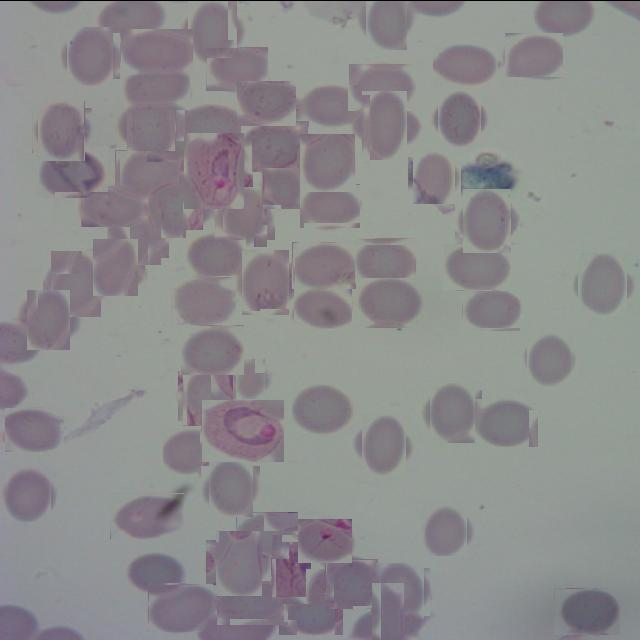leukocyte: (38, 145, 108, 197), (242, 120, 310, 171), (356, 277, 425, 327), (212, 579, 288, 624), (110, 492, 184, 538), (150, 174, 208, 232), (123, 96, 181, 154), (48, 254, 106, 312), (148, 583, 217, 631), (121, 28, 193, 74), (184, 2, 242, 59), (356, 96, 414, 153), (348, 62, 416, 110), (443, 242, 511, 290), (298, 134, 356, 190), (472, 397, 538, 446), (291, 383, 355, 433), (180, 324, 244, 374), (238, 253, 294, 310), (171, 275, 236, 324), (575, 256, 631, 312), (210, 534, 266, 590), (460, 192, 516, 248), (554, 587, 620, 634), (116, 149, 180, 197), (180, 102, 246, 148), (180, 368, 236, 422), (292, 241, 356, 288), (433, 41, 498, 87), (124, 64, 190, 109), (373, 564, 428, 618), (356, 418, 411, 472), (34, 102, 89, 156), (111, 207, 165, 260), (236, 511, 298, 557), (354, 237, 416, 283), (186, 229, 246, 276), (64, 28, 116, 82), (164, 428, 222, 476), (32, 106, 92, 152), (206, 46, 268, 90), (81, 186, 149, 226), (219, 190, 271, 242), (22, 292, 74, 344), (426, 386, 478, 438), (238, 80, 298, 125), (279, 592, 343, 634), (125, 552, 186, 596), (5, 407, 66, 451), (299, 184, 360, 228), (524, 332, 576, 383), (90, 241, 142, 292), (360, 593, 416, 640), (2, 468, 54, 518), (326, 558, 378, 608), (294, 284, 352, 328), (505, 32, 563, 76), (462, 286, 520, 330), (206, 462, 256, 513), (302, 84, 362, 126), (420, 504, 470, 554), (434, 94, 484, 144), (298, 518, 352, 562), (361, 0, 411, 45), (411, 154, 458, 200), (262, 168, 303, 208), (233, 360, 268, 396)
schizont: (201, 398, 284, 461), (180, 136, 249, 204), (268, 538, 330, 600)
